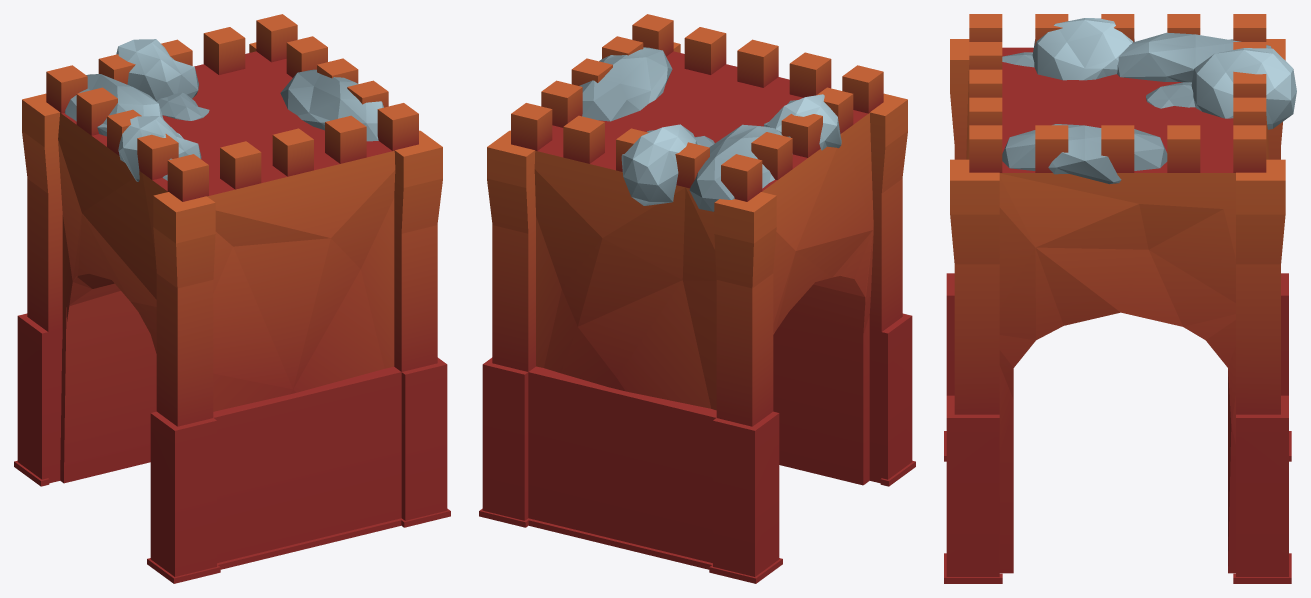
File: SM_TOWER_Arch 1.fbx
The picture shows the model from 3 angles, left to right: view 1: azimuth 30°, elevation 25°; view 2: azimuth 150°, elevation 25°; view 3: azimuth 270°, elevation 25°; orthographic projection. The views are drawn at different scales.
Parts seen in each view (by area): view 1: SM_Tower_Cube_Middle; view 2: SM_Tower_Cube_Middle; view 3: SM_Tower_Cube_Middle.
Part boxes in pixels (<box>): SM_Tower_Cube_Middle: <box>14,14,450,583</box>; SM_Tower_Cube_Middle: <box>479,14,915,583</box>; SM_Tower_Cube_Middle: <box>944,14,1296,583</box>.
Bounding box in the file's own units: 937 × 1334 × 951.
